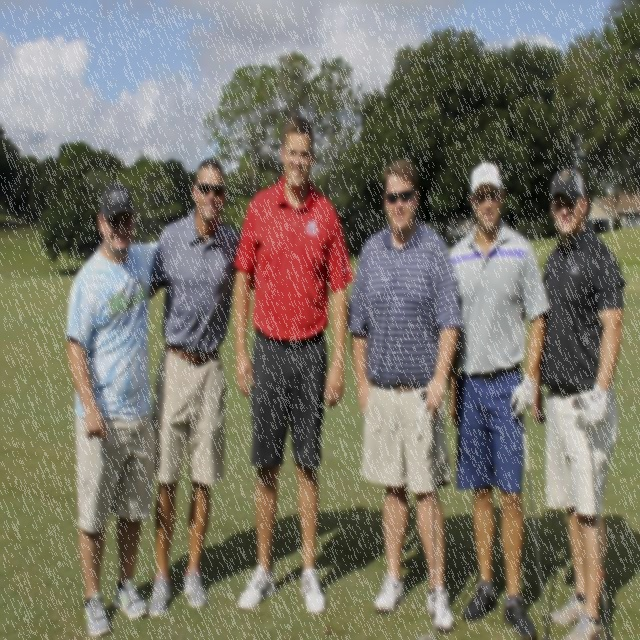pessoa: (229, 111, 355, 616), (341, 156, 466, 635), (439, 158, 553, 639), (144, 158, 255, 620), (65, 180, 160, 638), (540, 165, 624, 640)
